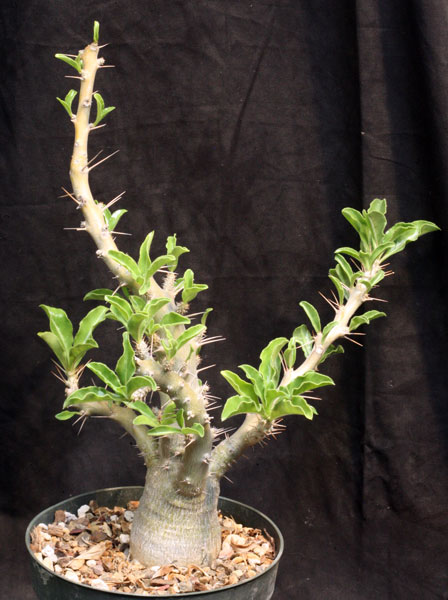Pachypodium saundersii: (42, 17, 425, 562)
